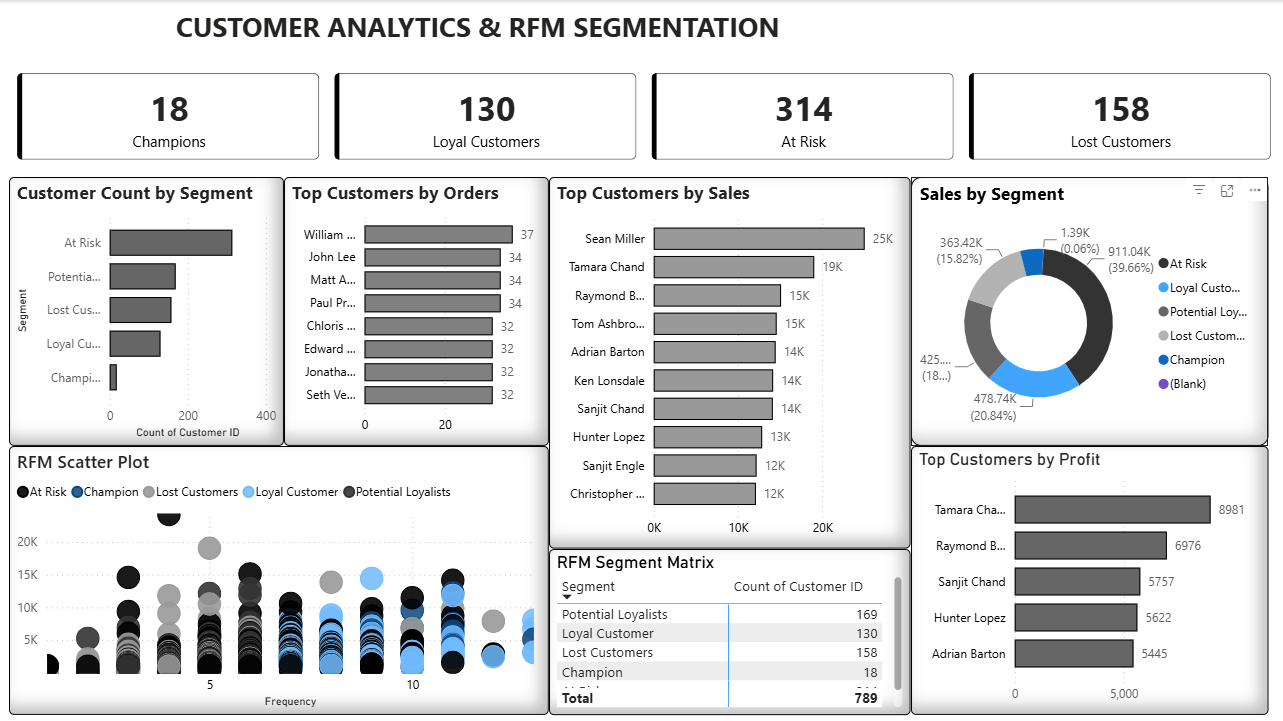

The page's visual inventory and layout, read from the dashboard file:
{"tool":"powerbi","page":{"name":"Customer Analytics","canvas":[1280,720],"ordinal":4},"visuals":[{"type":"textbox","box":[169.9,3,622.4,52.3],"z":0},{"type":"cardVisual","fields":{"Data":["sales_data.Champions","sales_data.Loyal Customers","sales_data.At Risk","sales_data.Lost Customers"]},"box":[0,55.3,1280,120.6],"z":1000},{"type":"donutChart","title":"Sales by Segment","fields":{"Category":["rfmdf_analysis.Segment"],"Y":["Sum(sales_data.Sales)"]},"box":[904.6,175.8,354.5,267.1],"z":2000},{"type":"barChart","title":"Customer Count by Segment","fields":{"Category":["rfmdf_analysis.Segment"],"Y":["CountNonNull(rfmdf_analysis.Customer ID)"]},"box":[8.9,175.8,273.1,267.1],"z":3000},{"type":"barChart","title":"Top Customers by Sales","fields":{"Category":["sales_data.Customer Name"],"Y":["Sum(sales_data.Sales)"]},"box":[545.2,175.8,359.5,369.4],"z":4000},{"type":"barChart","title":"Top Customers by Profit","fields":{"Category":["sales_data.Customer Name"],"Y":["Sum(sales_data.Profit)"]},"box":[904.6,442.9,354.5,267.1],"z":5000},{"type":"barChart","title":"Top Customers by Orders","fields":{"Category":["sales_data.Customer Name"],"Y":["CountNonNull(sales_data.Order ID)"]},"box":[282,175.8,263.1,267.1],"z":6000},{"type":"pivotTable","title":"RFM Segment Matrix ","fields":{"Rows":["rfmdf_analysis.Segment"],"Values":["Count(rfmdf_analysis.Customer ID)"]},"box":[545.2,545.2,359.5,164.8],"z":7000},{"type":"scatterChart","title":"RFM Scatter Plot","fields":{"X":["rfmdf_analysis.Frequency"],"Y":["rfmdf_analysis.Monetary"],"Size":["CountNonNull(rfmdf_analysis.Recency)"],"Series":["rfmdf_analysis.Segment"]},"box":[8.9,442.9,536.2,267.1],"z":8000}]}

Visuals, with their boxes in screenshot pixels (x1, y1, x2, y2), scaled from the page's 1280x720 canvas onto the 1283x721 screenshot:
textbox: rect(170, 3, 794, 55)
cardVisual - sales_data.Champions x sales_data.Loyal Customers: rect(0, 55, 1282, 176)
"Sales by Segment" donutChart: rect(907, 176, 1262, 444)
"Customer Count by Segment" barChart: rect(9, 176, 283, 444)
"Top Customers by Sales" barChart: rect(546, 176, 907, 546)
"Top Customers by Profit" barChart: rect(907, 444, 1262, 711)
"Top Customers by Orders" barChart: rect(283, 176, 546, 444)
"RFM Segment Matrix " pivotTable: rect(546, 546, 907, 711)
"RFM Scatter Plot" scatterChart: rect(9, 444, 546, 711)
